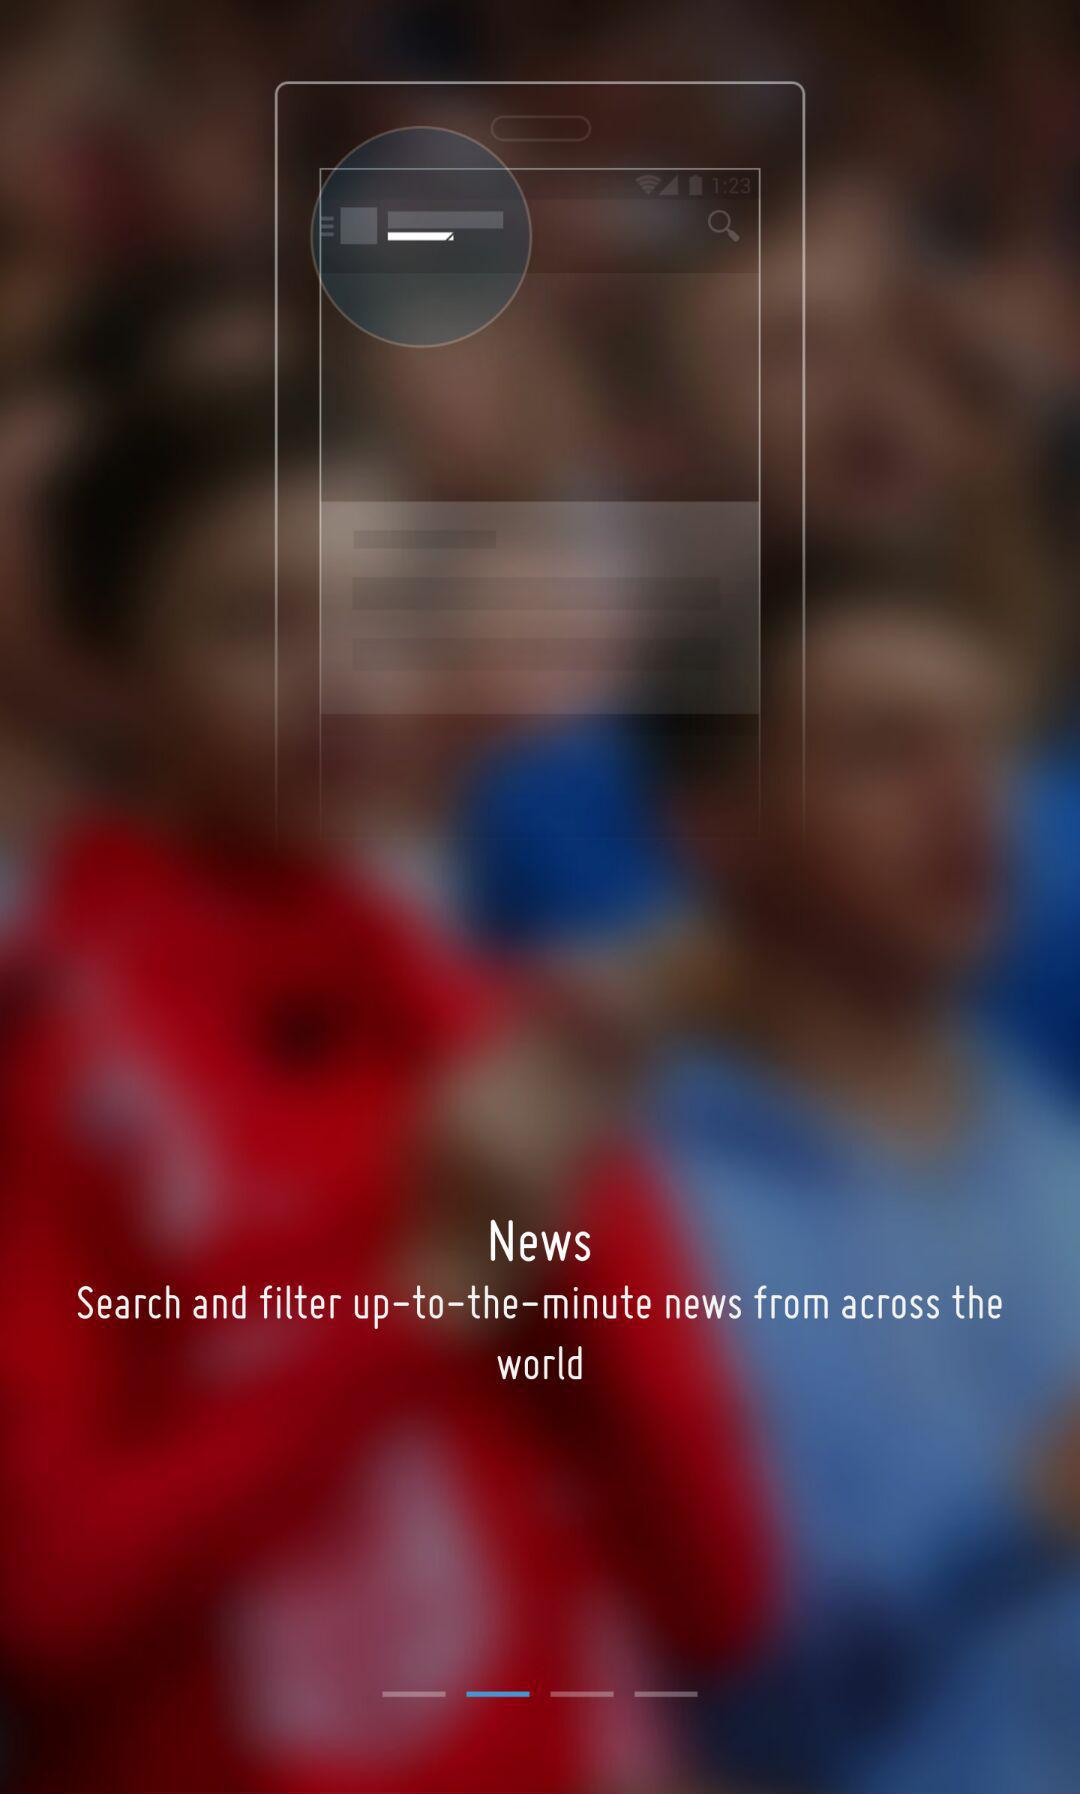BackgroundImage: (1, 1, 1080, 1794)
Image: (273, 79, 808, 853)
PageIndicator: (380, 1689, 700, 1699)
Text: (77, 1284, 1004, 1381), (489, 1220, 592, 1263)
